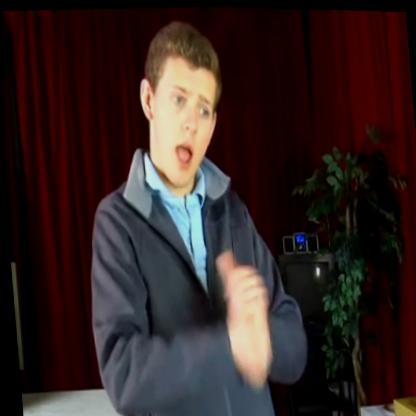HowAreYou: (195, 229, 286, 377)
